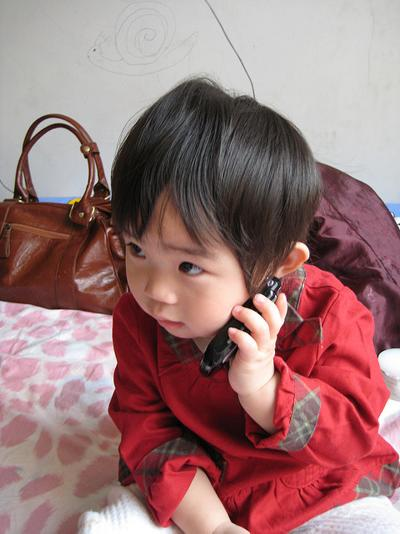person: (108, 78, 400, 534)
